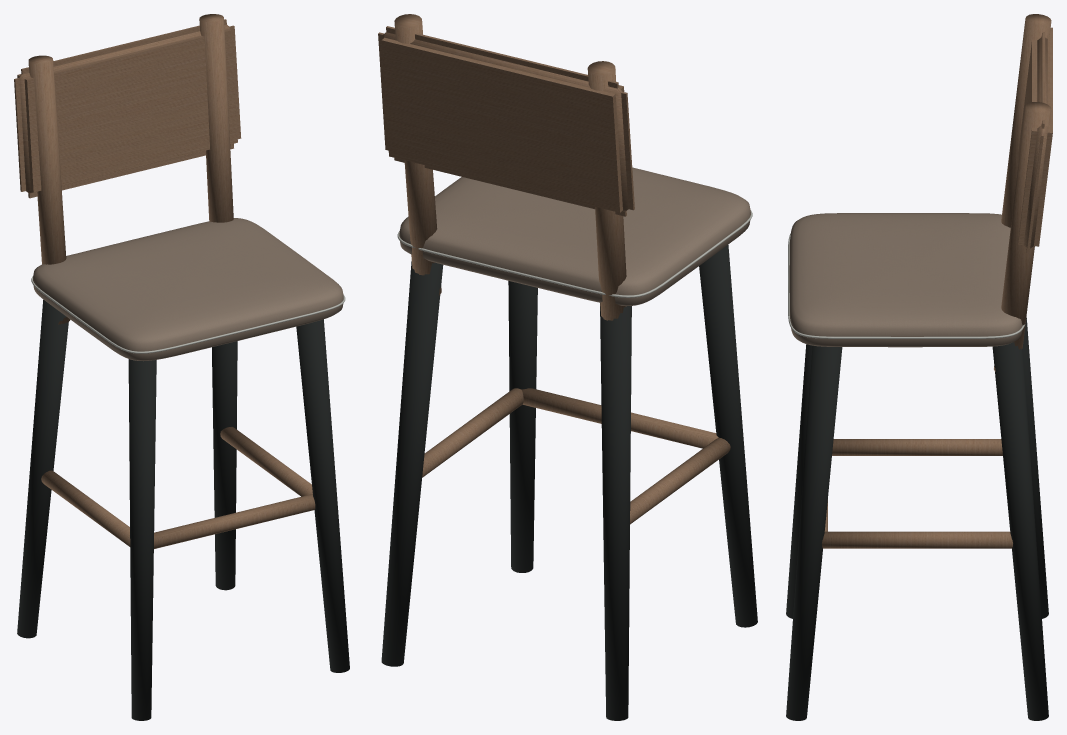
The model's file is industrial.stool.gltf.
3 views of the same model, side by side, from view 1: azimuth 30°, elevation 25°; view 2: azimuth 150°, elevation 25°; view 3: azimuth 270°, elevation 25° (orthographic). The views are drawn at different scales.
Parts seen in each view (by area): view 1: industrial.stool.leg; view 2: industrial.stool.leg; view 3: industrial.stool.leg.
Boxes of the visible parts, box(x1,y1,x2,y2) form: industrial.stool.leg: box(14, 14, 349, 720); industrial.stool.leg: box(378, 14, 757, 720); industrial.stool.leg: box(786, 14, 1052, 720).
Bounding box in the file's own units: 0.4215 × 1.02 × 0.4076.
4 materials, 2 textured.
